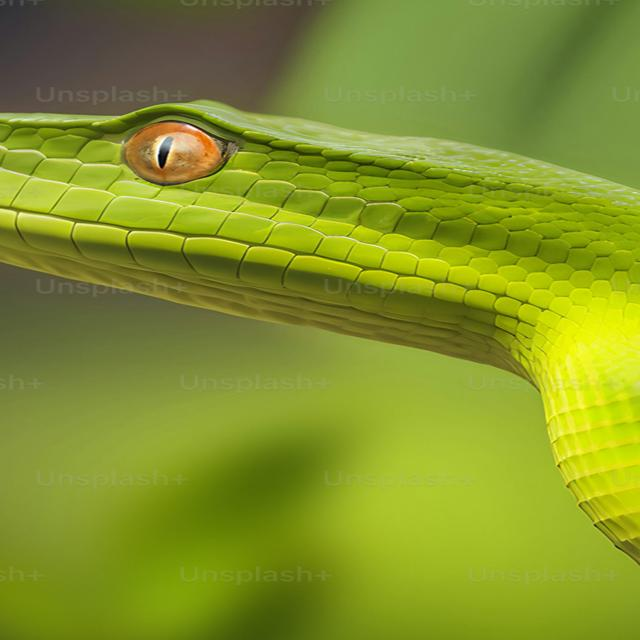Snake: (0, 96, 640, 640)
